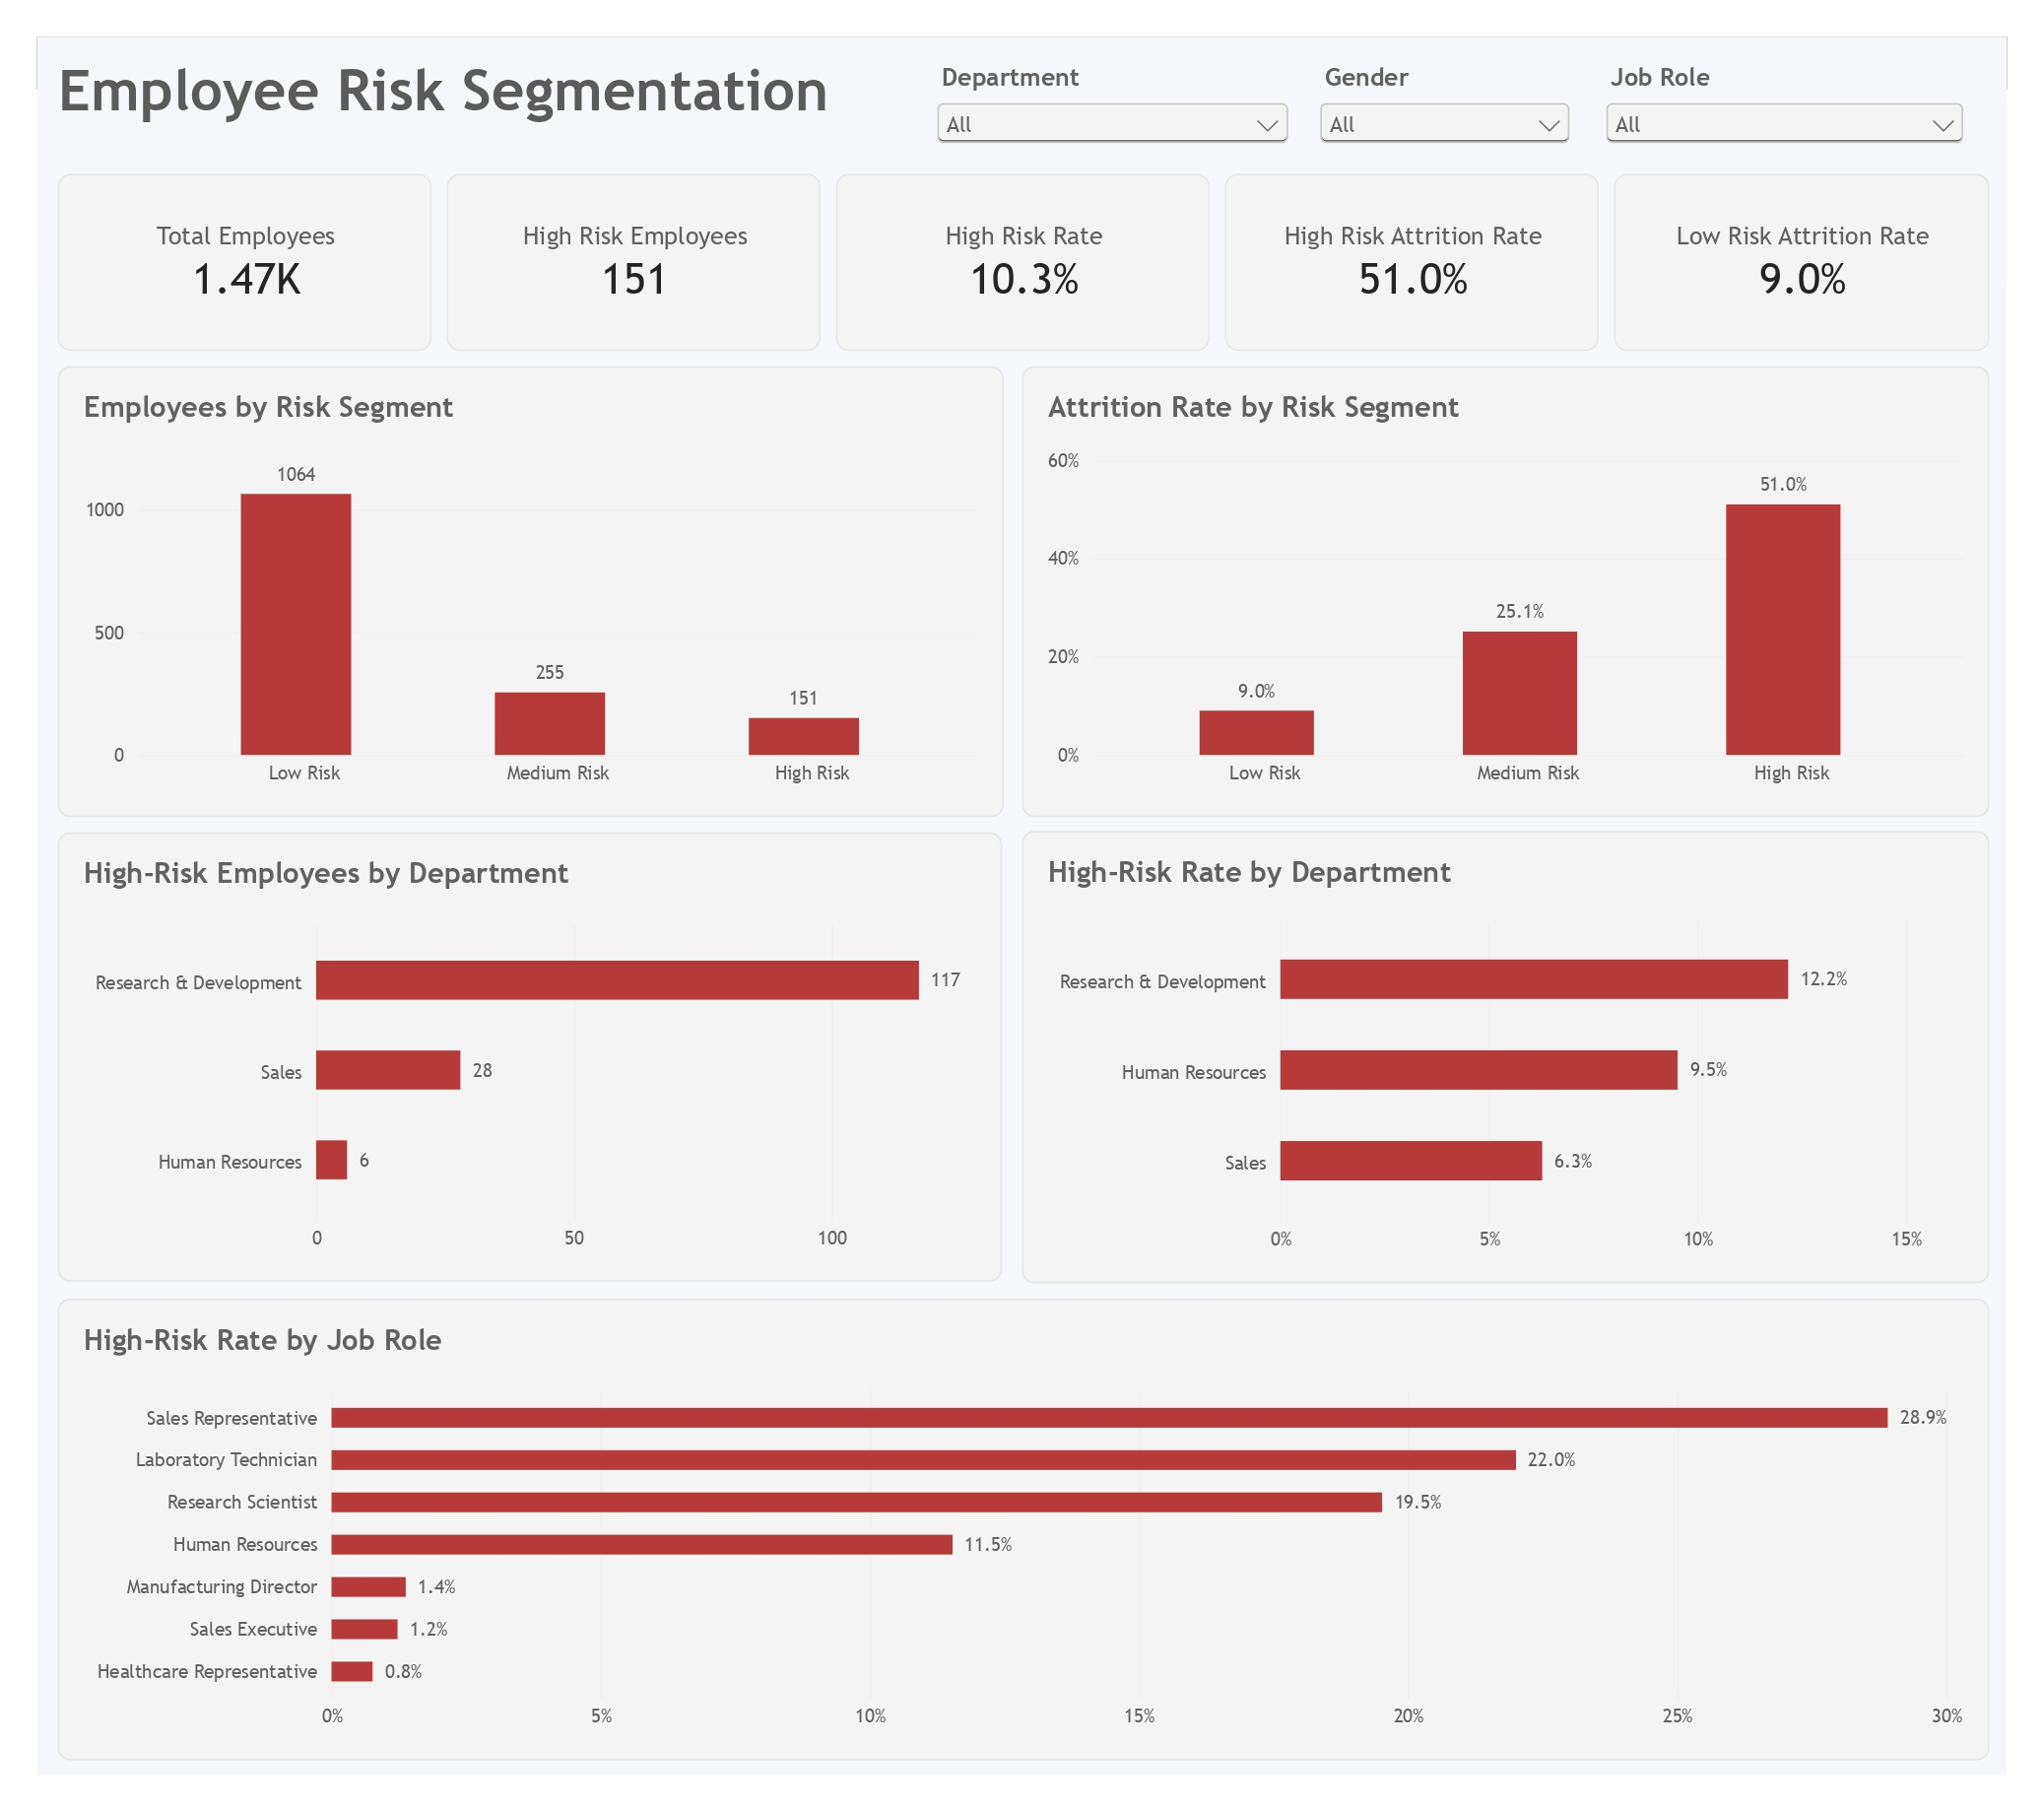

The page's visual inventory and layout, read from the dashboard file:
{"tool":"powerbi","page":{"name":"Employee Risk Segmentation","canvas":[1280,1130],"ordinal":2},"visuals":[{"type":"textbox","box":[12.5,13.1,1256,70],"z":0},{"type":"clusteredColumnChart","title":"Employees by Risk Segment","fields":{"Y":["hr_employee_attrition_analytics.Total Employees"],"Category":["hr_employee_attrition_analytics.risk_segment"]},"box":[13,214.3,615,292.6],"z":1000},{"type":"slicer","fields":{"Values":["hr_employee_attrition_analytics.department"]},"box":[580.5,17.4,237.8,61],"z":2000},{"type":"cardVisual","fields":{"Data":["hr_employee_attrition_analytics.Total Employees"]},"box":[12.5,88.6,243.2,115.7],"z":3000},{"type":"slicer","fields":{"Values":["hr_employee_attrition_analytics.gender"]},"box":[829.2,17.4,172.1,61],"z":4000},{"type":"clusteredColumnChart","title":"Attrition Rate by Risk Segment","fields":{"Category":["hr_employee_attrition_analytics.risk_segment"],"Y":["hr_employee_attrition_analytics.Attrition Rate"]},"box":[639.7,214.3,628.8,292.5],"z":5000},{"type":"slicer","fields":{"Values":["hr_employee_attrition_analytics.job_role"]},"box":[1014.9,17.4,242.4,61],"z":6000},{"type":"cardVisual","fields":{"Data":["hr_employee_attrition_analytics.High Risk Employees"]},"box":[265.7,88.6,243.2,115.7],"z":7000},{"type":"cardVisual","fields":{"Data":["hr_employee_attrition_analytics.High Risk Rate"]},"box":[518.9,88.6,243.2,115.7],"z":8000},{"type":"cardVisual","fields":{"Data":["hr_employee_attrition_analytics.High Risk Attrition Rate"]},"box":[772.1,88.6,243.2,115.7],"z":9000},{"type":"cardVisual","fields":{"Data":["hr_employee_attrition_analytics.Low Risk Attrition Rate"]},"box":[1025.3,88.6,243.2,115.7],"z":10000},{"type":"clusteredBarChart","title":"High-Risk Employees by Department","fields":{"Category":["hr_employee_attrition_analytics.department"],"Y":["hr_employee_attrition_analytics.High Risk Employees"]},"box":[12.5,517.1,614.7,292],"z":11000},{"type":"clusteredBarChart","title":"High-Risk Rate by Department","fields":{"Y":["hr_employee_attrition_analytics.High Risk Rate"],"Category":["hr_employee_attrition_analytics.department"]},"box":[639.7,516.2,628.8,294.1],"z":12000},{"type":"clusteredBarChart","title":"High-Risk Rate by Job Role","fields":{"Y":["hr_employee_attrition_analytics.High Risk Rate"],"Category":["hr_employee_attrition_analytics.job_role"]},"box":[12.5,819.7,1256,300],"z":13000}]}

Visuals, with their boxes on the page's 1280x1130 design canvas (x1, y1, x2, y2). These are canvas units, not pixel positions in the 2044x1813 screenshot, which may show the page scaled, cropped or inside an application window:
textbox: (12, 13, 1268, 83)
"Employees by Risk Segment" clusteredColumnChart: (13, 214, 628, 507)
slicer - hr_employee_attrition_analytics.department: (580, 17, 818, 78)
cardVisual - hr_employee_attrition_analytics.Total Employees: (12, 89, 256, 204)
slicer - hr_employee_attrition_analytics.gender: (829, 17, 1001, 78)
"Attrition Rate by Risk Segment" clusteredColumnChart: (640, 214, 1268, 507)
slicer - hr_employee_attrition_analytics.job_role: (1015, 17, 1257, 78)
cardVisual - hr_employee_attrition_analytics.High Risk Employees: (266, 89, 509, 204)
cardVisual - hr_employee_attrition_analytics.High Risk Rate: (519, 89, 762, 204)
cardVisual - hr_employee_attrition_analytics.High Risk Attrition Rate: (772, 89, 1015, 204)
cardVisual - hr_employee_attrition_analytics.Low Risk Attrition Rate: (1025, 89, 1268, 204)
"High-Risk Employees by Department" clusteredBarChart: (12, 517, 627, 809)
"High-Risk Rate by Department" clusteredBarChart: (640, 516, 1268, 810)
"High-Risk Rate by Job Role" clusteredBarChart: (12, 820, 1268, 1120)
